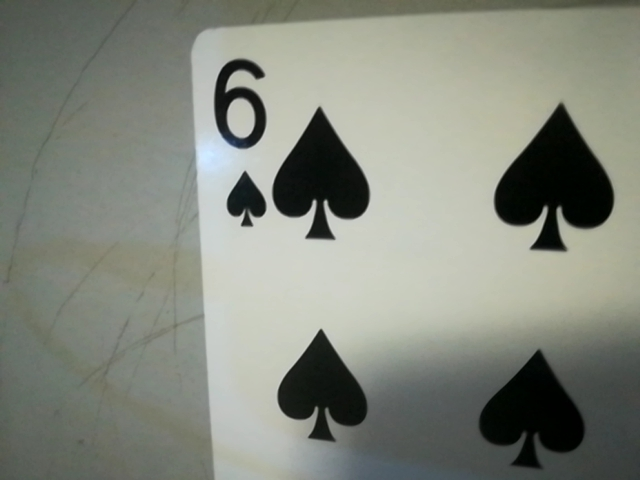ht 6: (201, 46, 276, 238)
